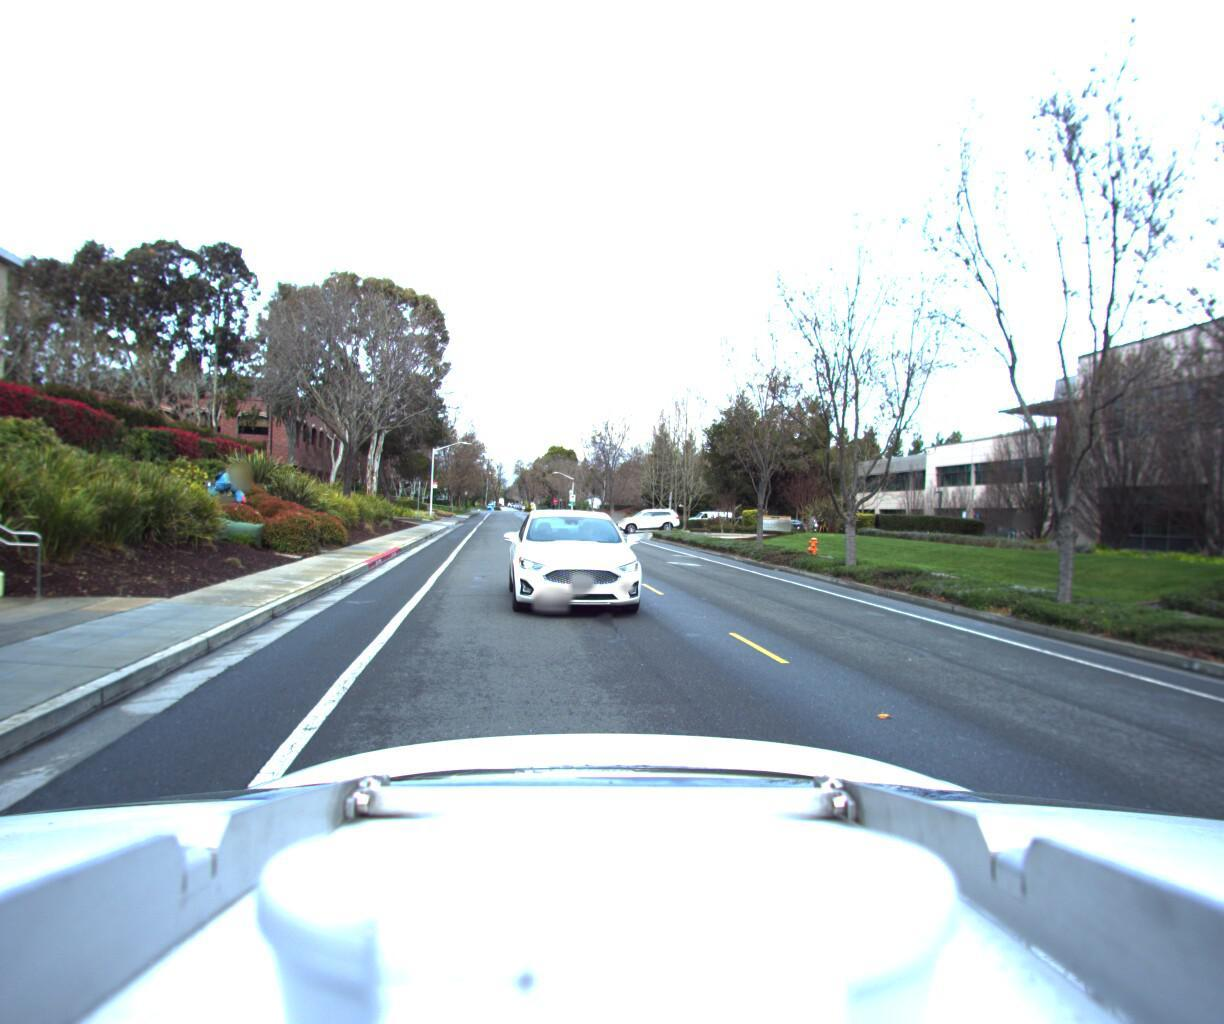car: (500, 500, 657, 622), (618, 507, 689, 536)
